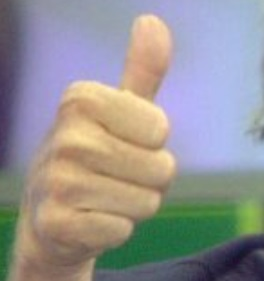best: (34, 15, 176, 250)
